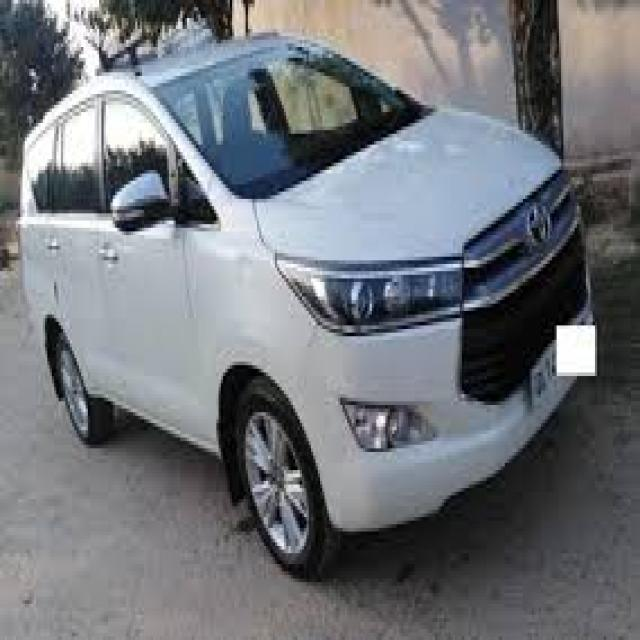light_vehicle: (16, 32, 594, 578)
